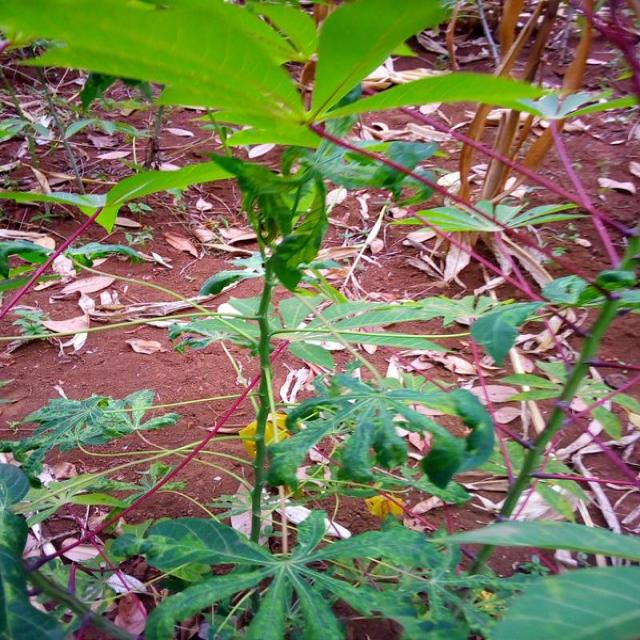cassava leaf: (1, 1, 637, 637), (1, 0, 320, 148)
